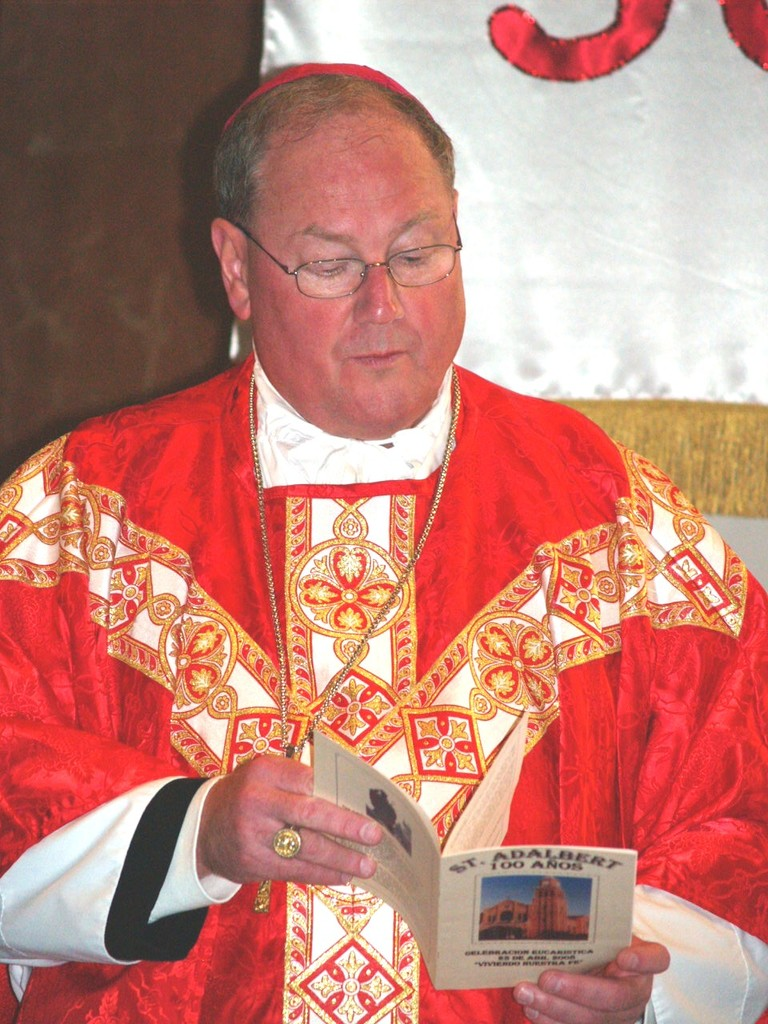Person: (0, 60, 768, 1023)
